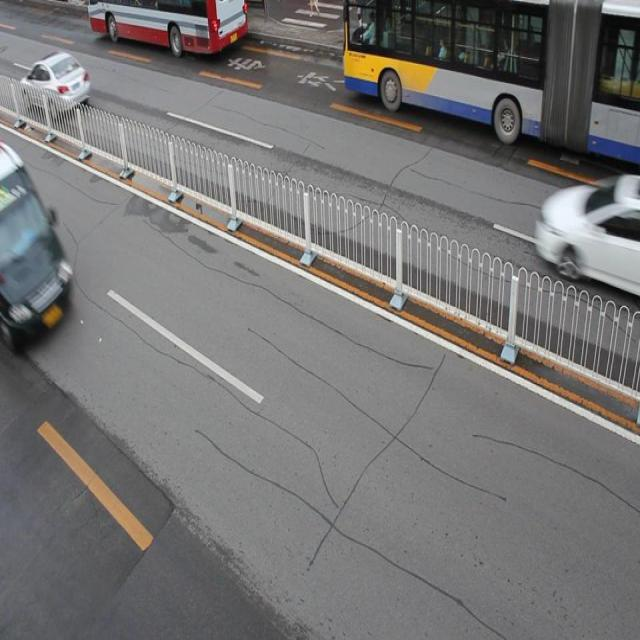car: (535, 179, 640, 295), (21, 51, 90, 120)
truck: (0, 150, 74, 342)
van: (341, 1, 640, 166), (85, 1, 244, 58)
